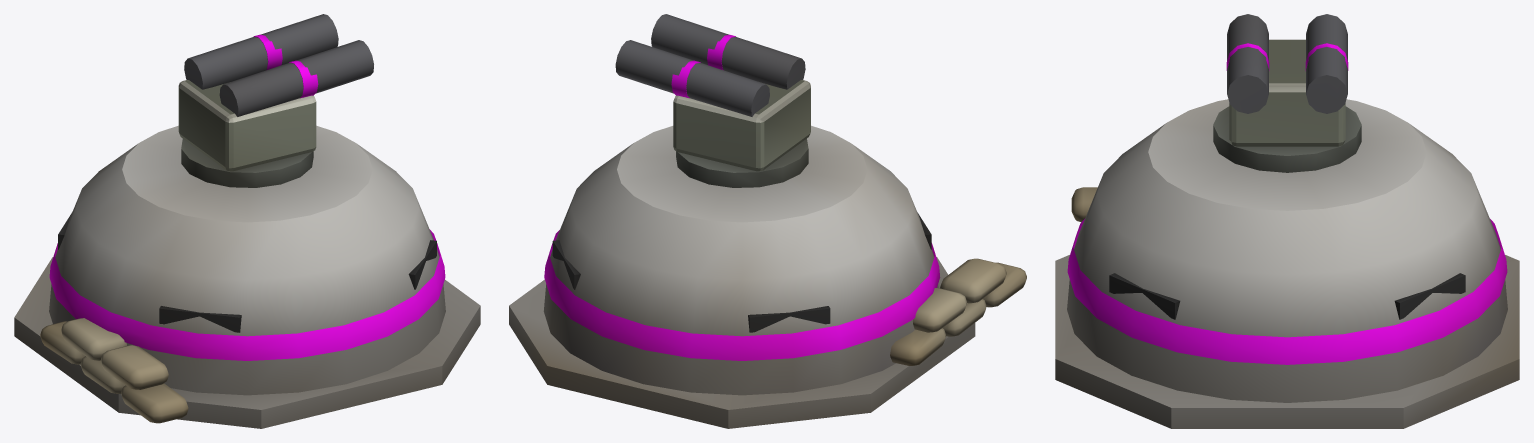
The model's file is rocket_bunker.glb.
3 renders of one model, left to right at view 1: azimuth 30°, elevation 25°; view 2: azimuth 150°, elevation 25°; view 3: azimuth 270°, elevation 25°, orthographic. The views are drawn at different scales.
Visible parts, largest first — view 1: Body, Turret, Barrel; view 2: Body, Turret, Barrel; view 3: Body, Turret, Barrel.
Part boxes in pixels (x1,y1,x2,y2): Body: (14, 125, 480, 428); Turret: (178, 80, 316, 187); Barrel: (184, 14, 373, 116); Body: (509, 125, 1026, 428); Turret: (673, 80, 810, 187); Barrel: (615, 14, 805, 116); Body: (1055, 99, 1519, 428); Turret: (1213, 39, 1361, 172); Barrel: (1226, 14, 1348, 113).
Size of the model in its own units: 2.07 by 1.47 by 2.
1 material, 1 textured.
